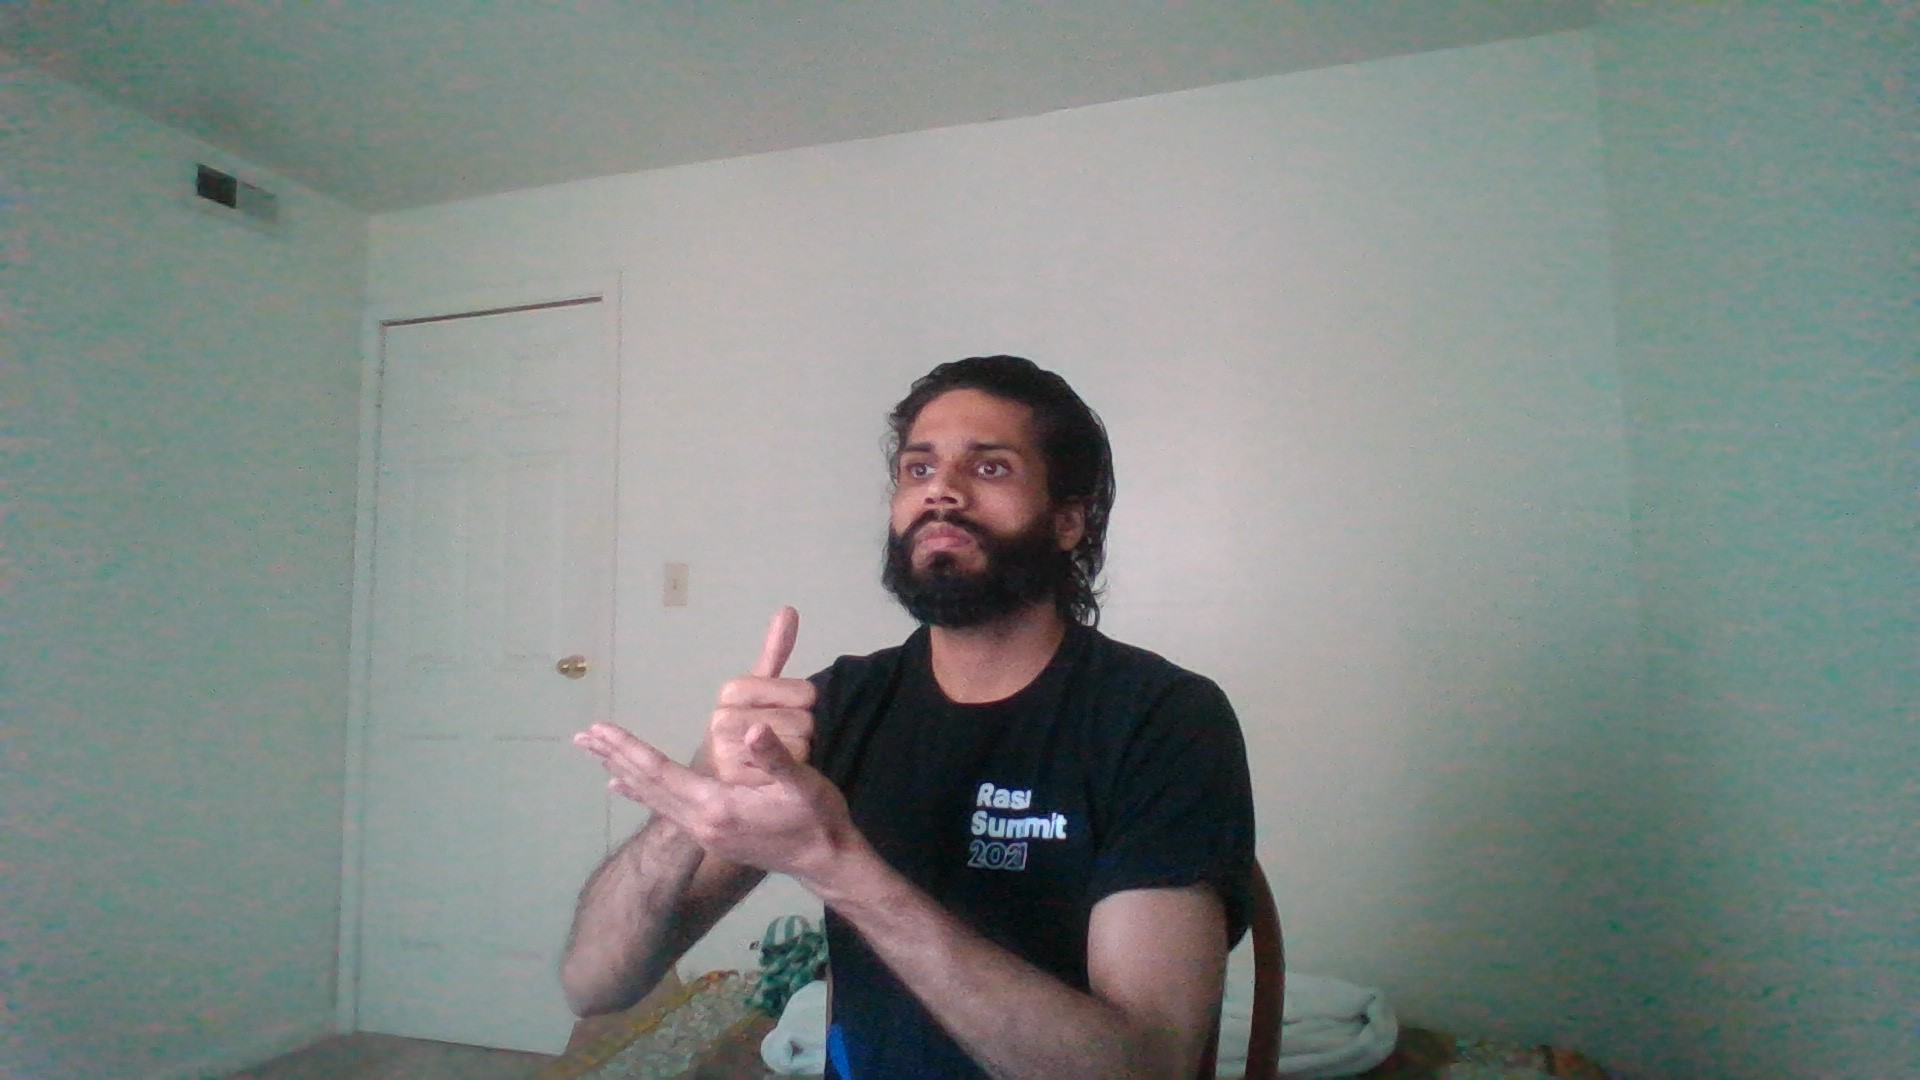Help: (559, 568, 876, 905)
